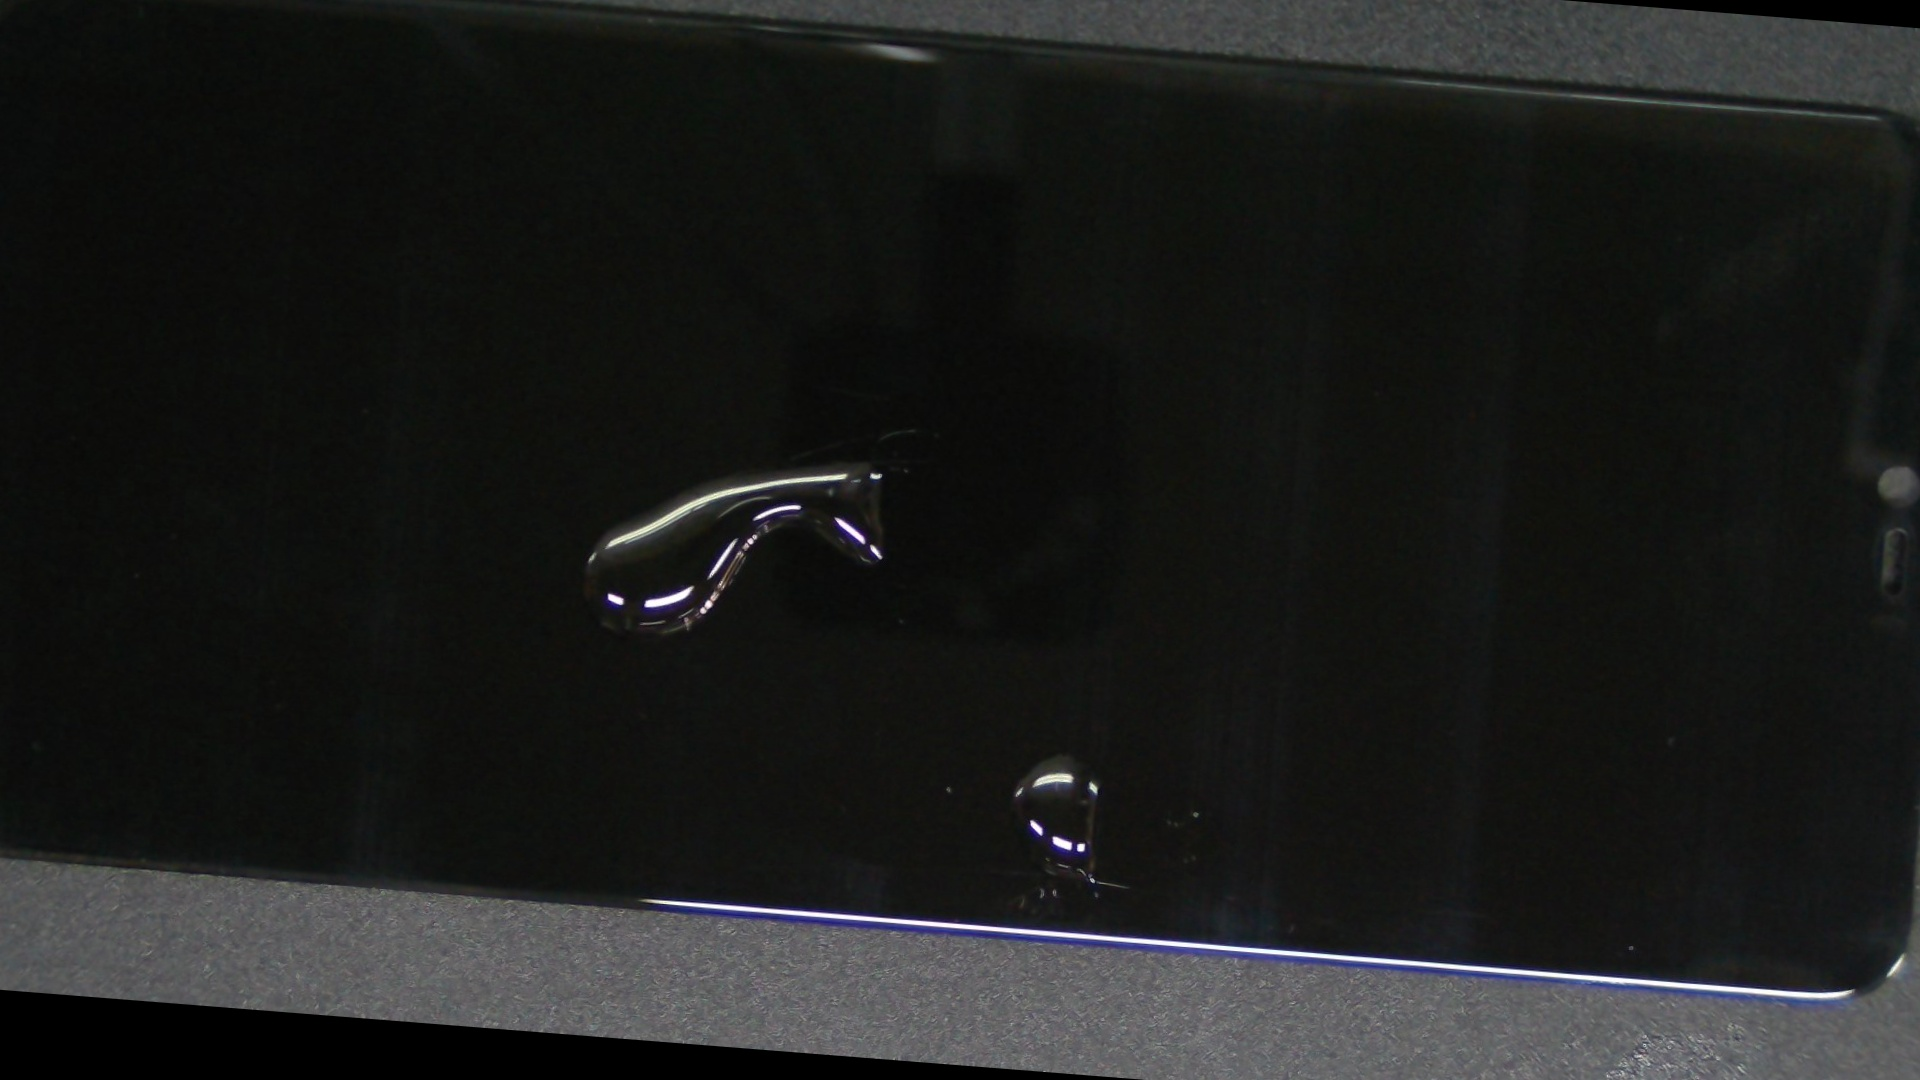oil: (448, 313, 1695, 1080), (368, 166, 1387, 757)
